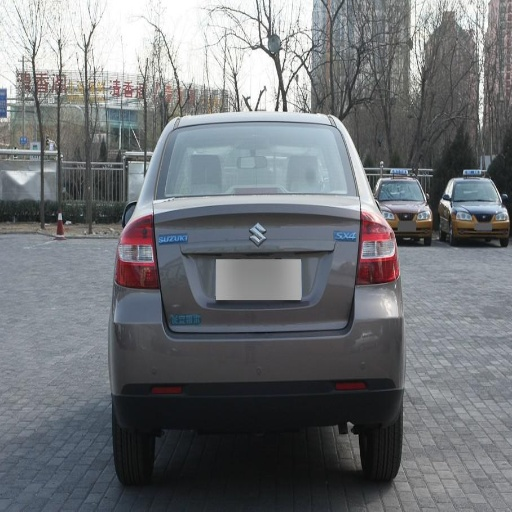back_bumper: (113, 281, 405, 422)
